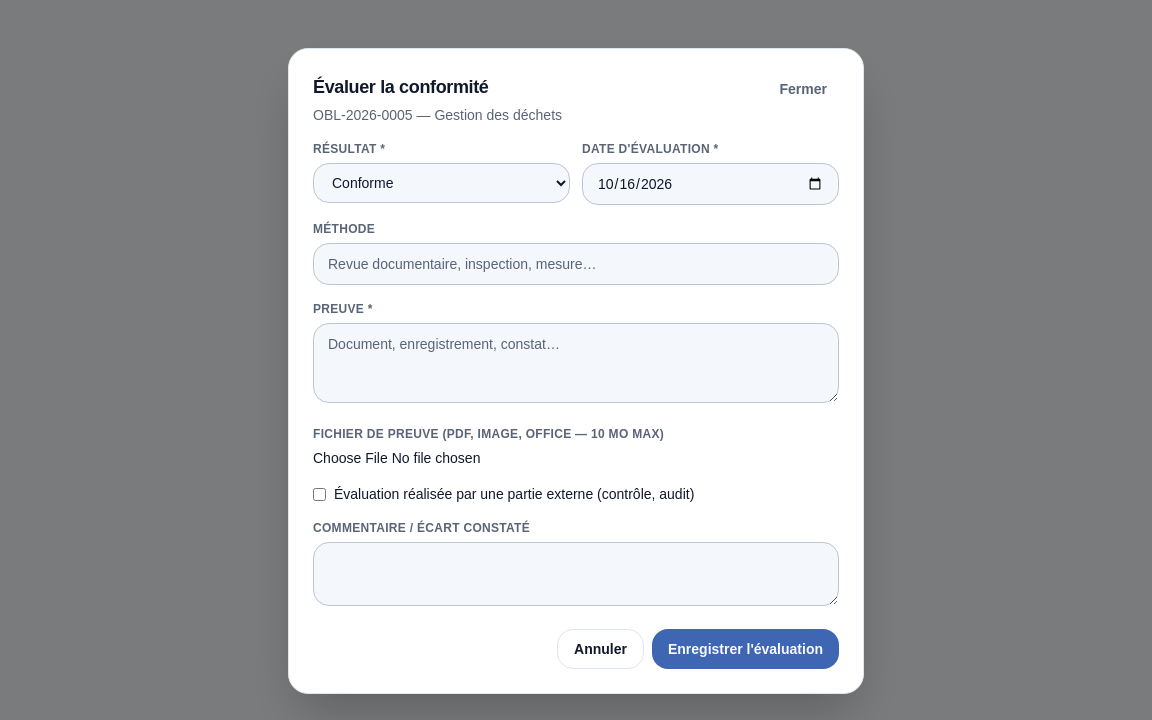
évaluation de conformité › exige l'organisme pour une évaluation externe
In the text box with placeholder "Document, enregistrement, constat…": (576, 363) [313,323,839,403], type "Rapport"
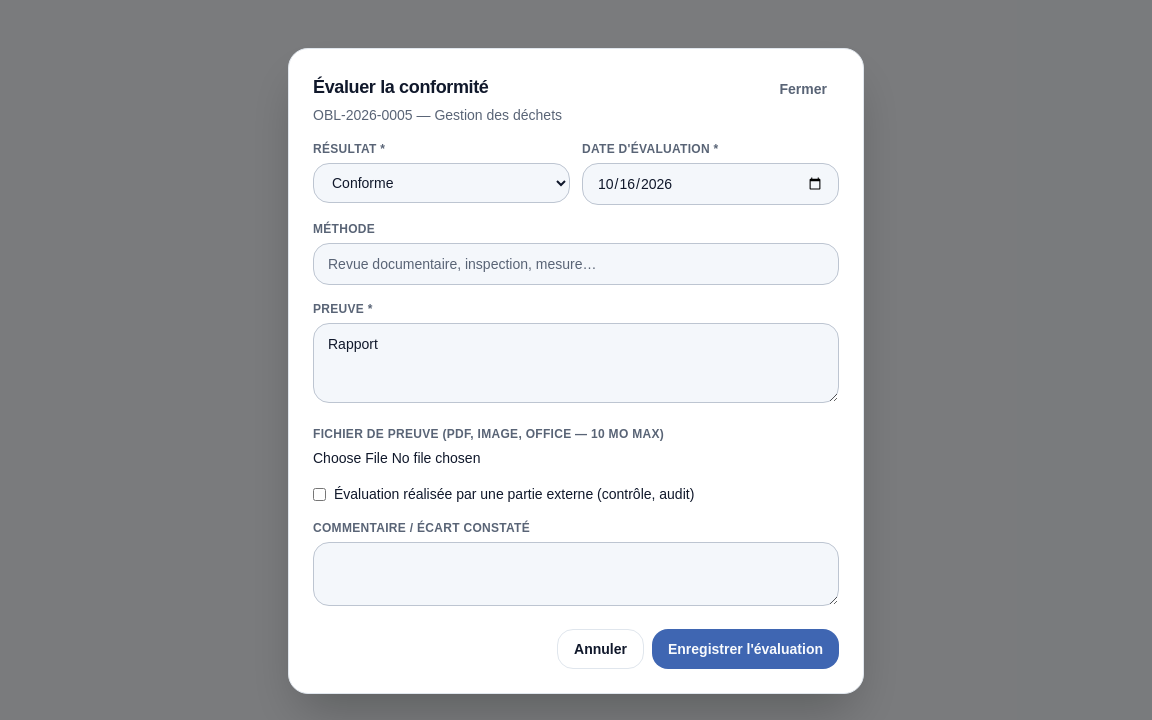
Click the checkbox labelled "Évaluation réalisée par une partie externe (contrôle, audit)": (320, 494) [313,488,326,500]
(page scrolled)
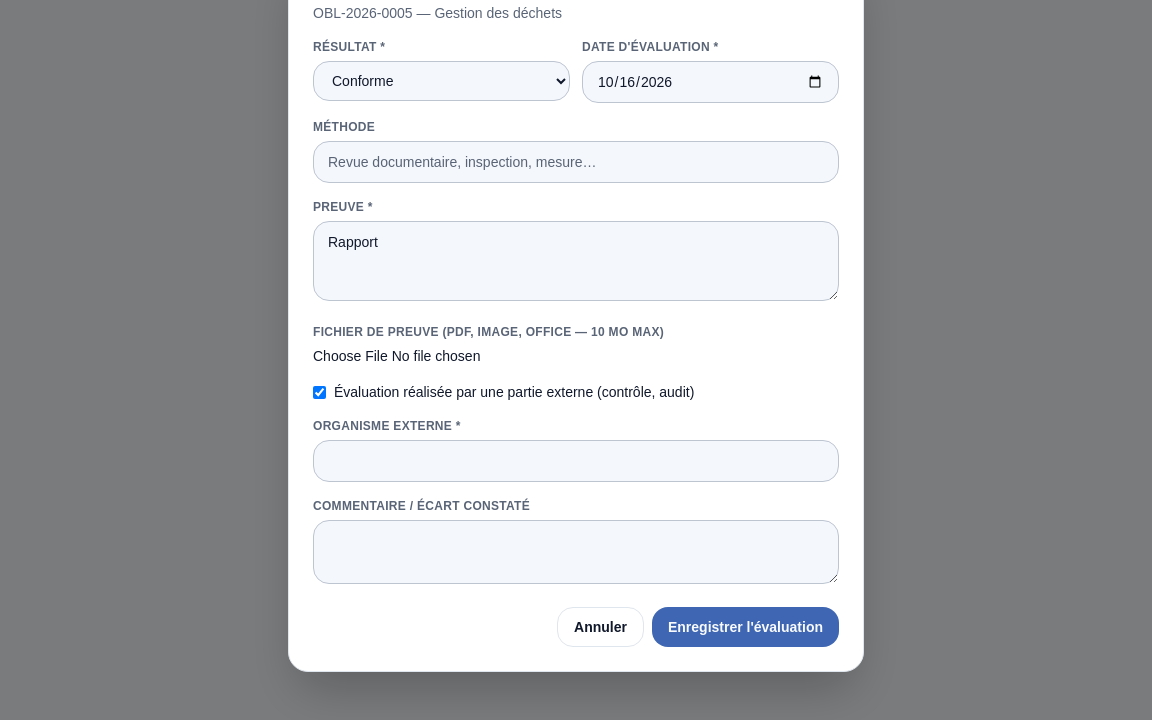
Click the button "Enregistrer l'évaluation": (746, 627) [652,607,839,647]
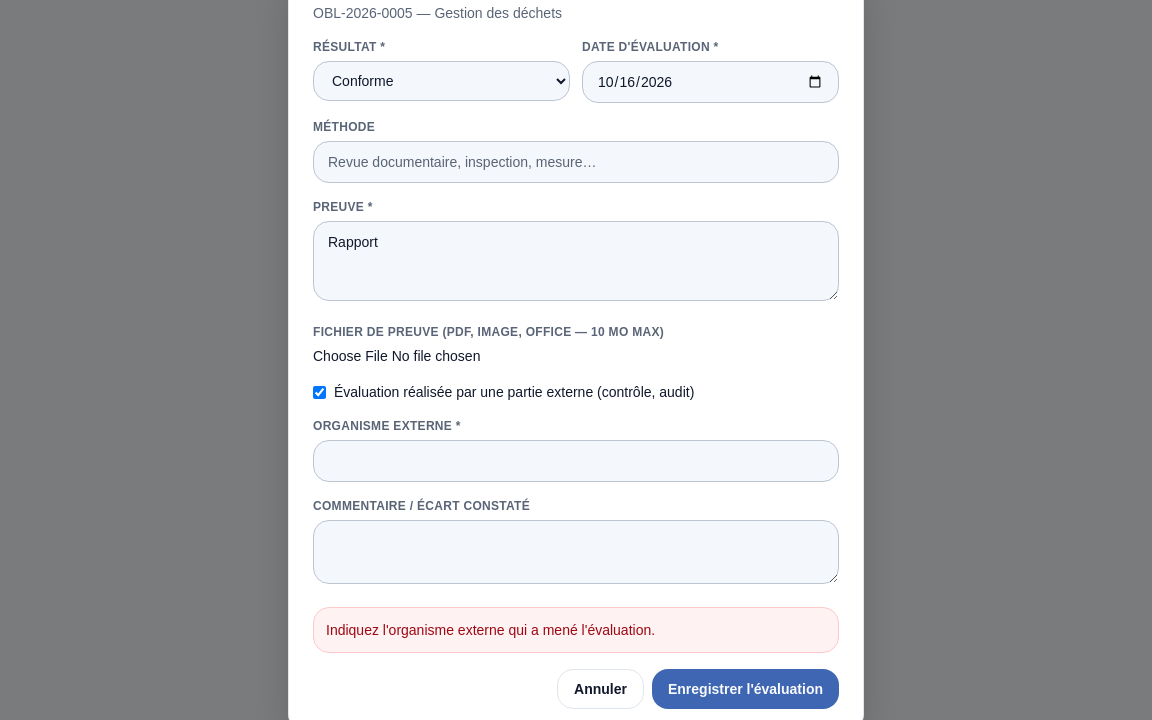
Expected: the message shows "organisme externe", [326,622,655,638]
